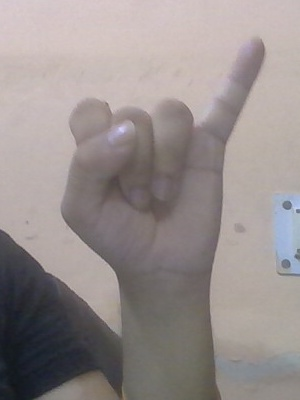I: (1, 23, 278, 301)
